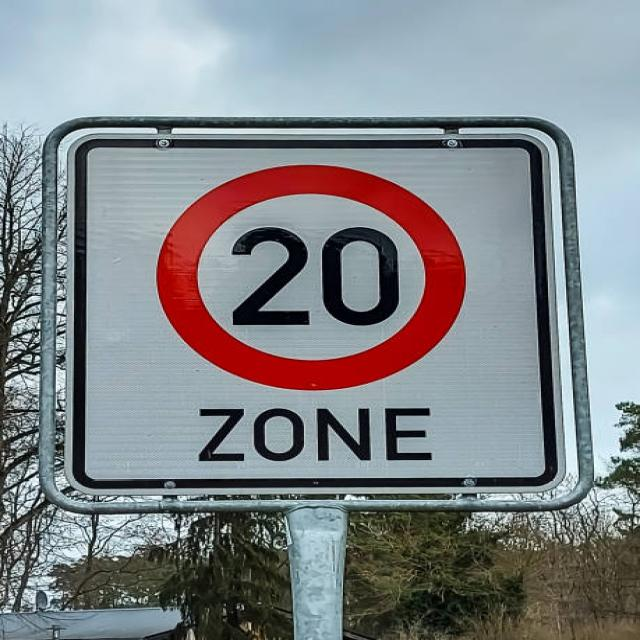speed_limit_20: (126, 157, 492, 401)
